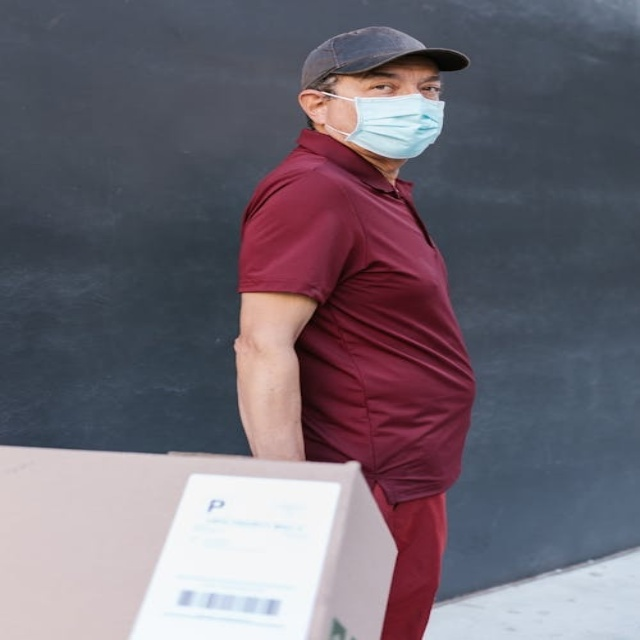Mascara: (320, 90, 444, 158)
Sin_gafas: (352, 76, 448, 97)
